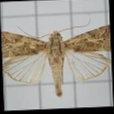Spodoptera litura: (2, 19, 111, 98)
